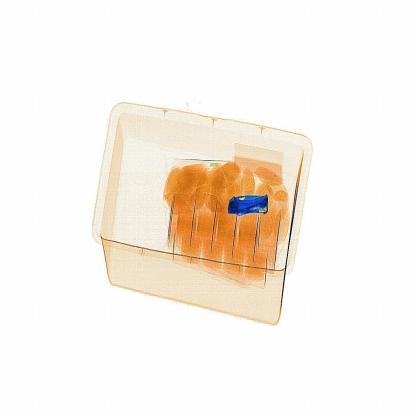knife: (227, 192, 269, 218)
